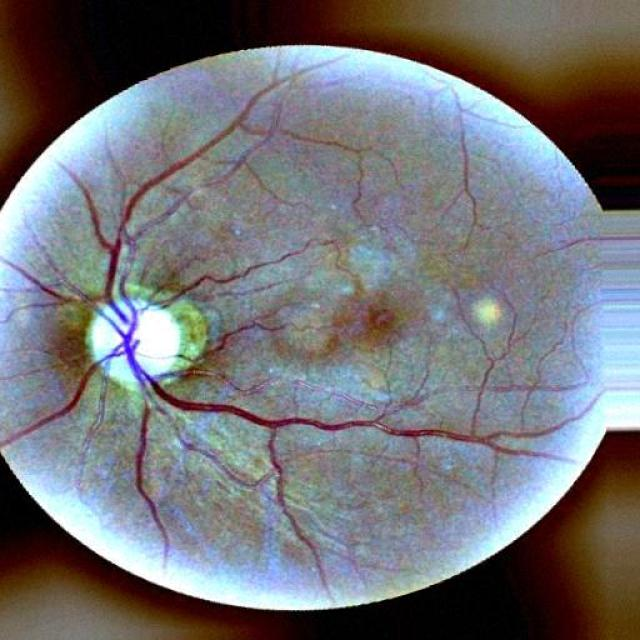Macula: (361, 304, 396, 345)
Nerves: (0, 76, 546, 589), (169, 320, 280, 392), (160, 251, 298, 308)
Optic Disk: (88, 298, 180, 398)
